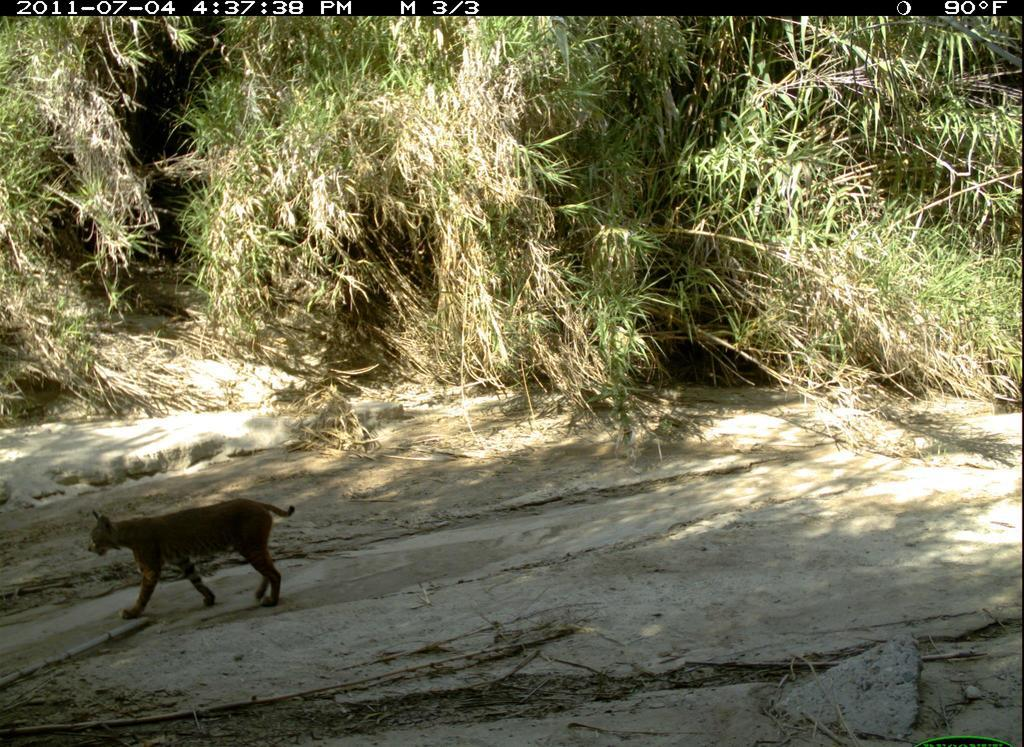bobcat: (81, 493, 305, 628)
